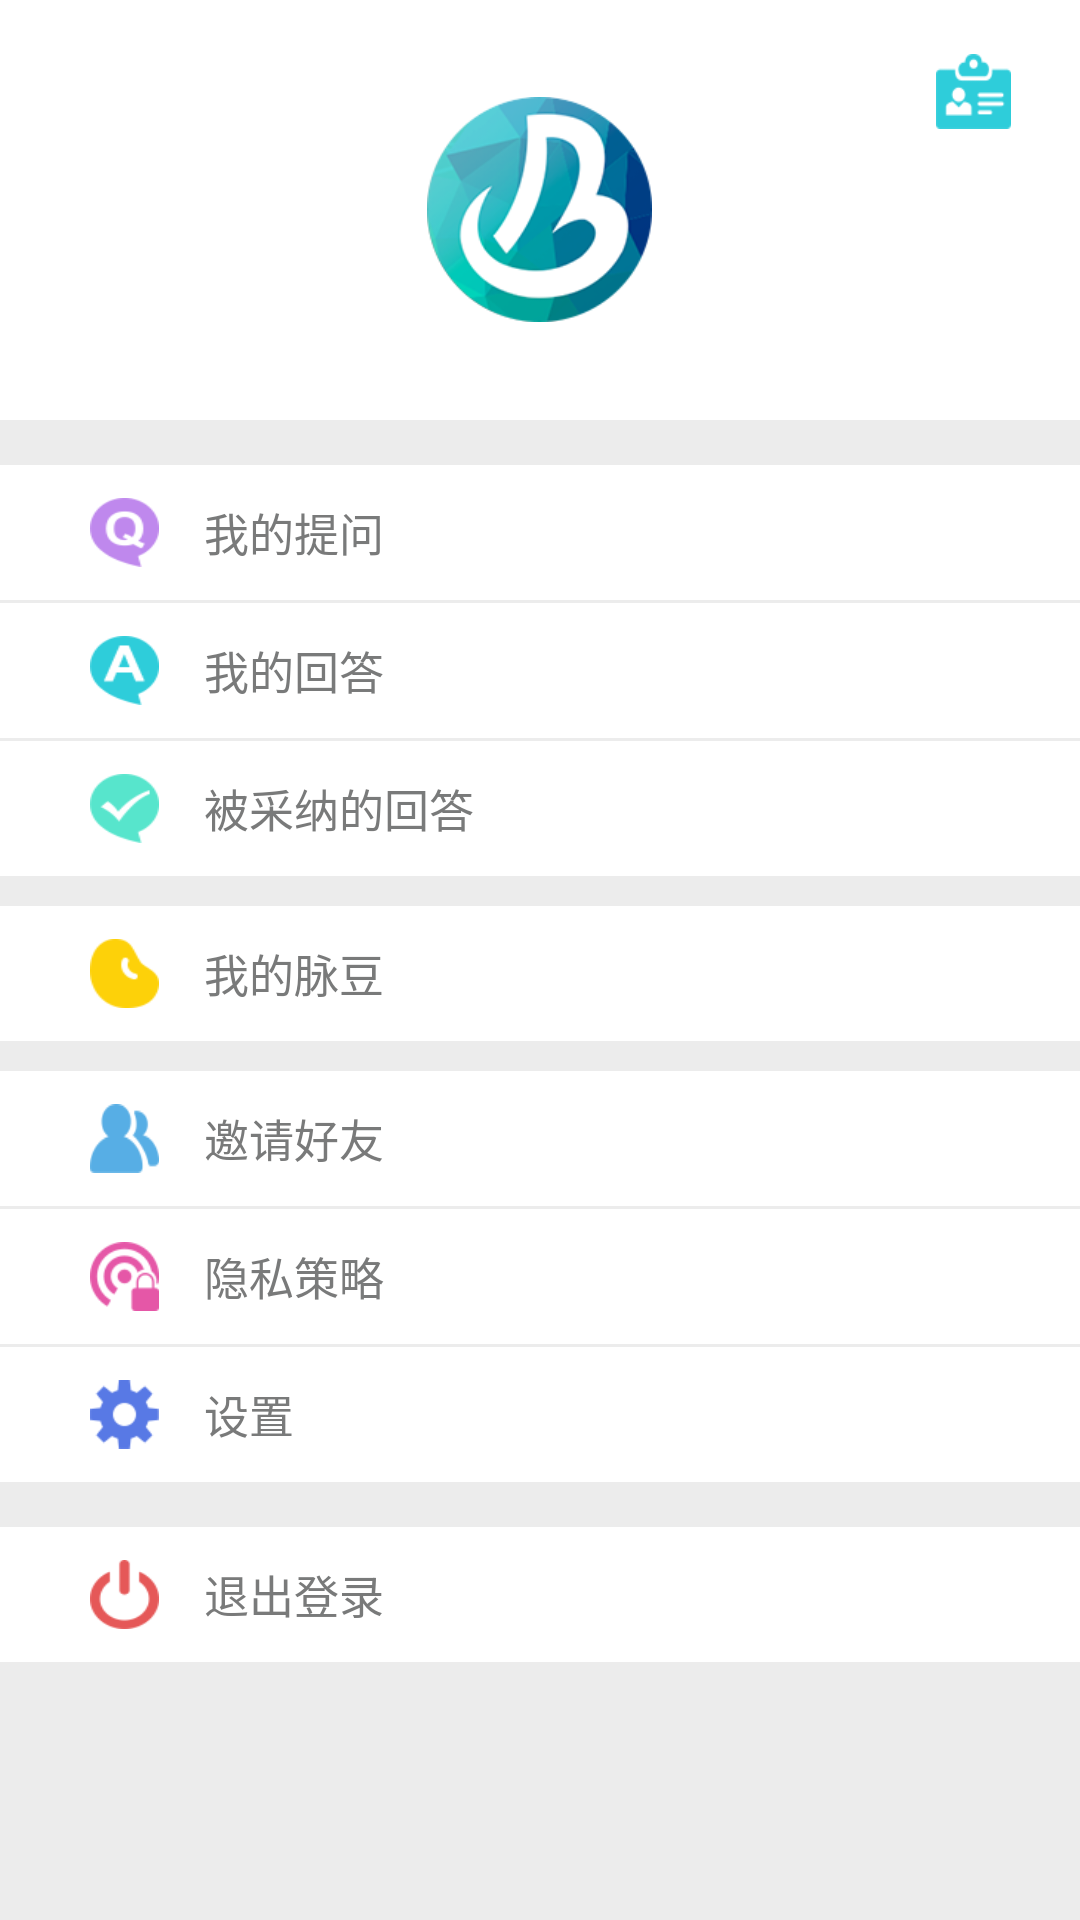

Named icons in this screenshot (1080px x 1920px) and their bounding boxes, [x1, y1, x2, y2]:
mine answer: [90, 636, 159, 705]
mine friends: [90, 1104, 159, 1173]
mine maidou: [90, 939, 159, 1008]
mine ok answer: [90, 774, 159, 843]
mine private: [90, 1242, 159, 1311]
mine question: [90, 498, 159, 567]
mine setting: [90, 1380, 159, 1449]
